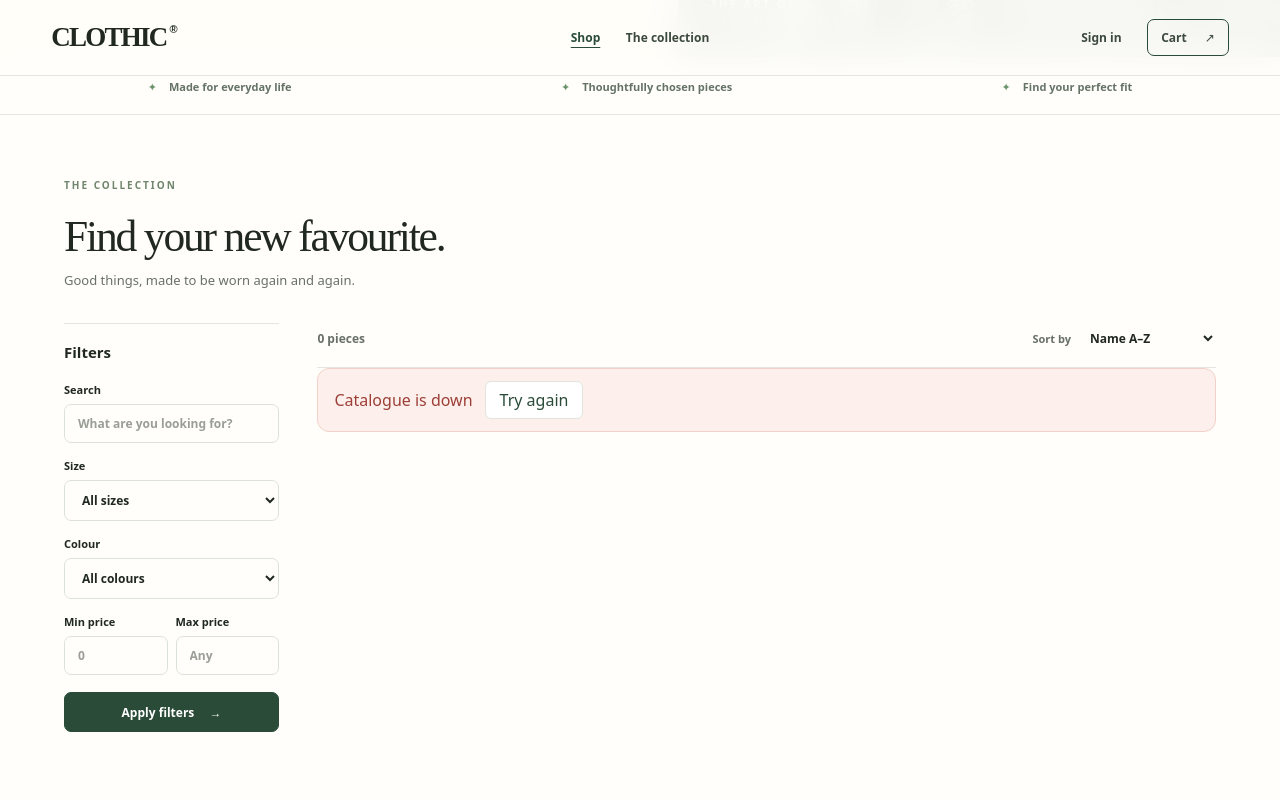
it: StorefrontPage › shows an error with retry when the catalogue fails to load
(page scrolled)
Expected: the message shows "Catalogue is down", left=334, top=389, right=473, bottom=411
Click the button "Try again" at (534, 400), box left=485, top=381, right=583, bottom=419
(page scrolled)
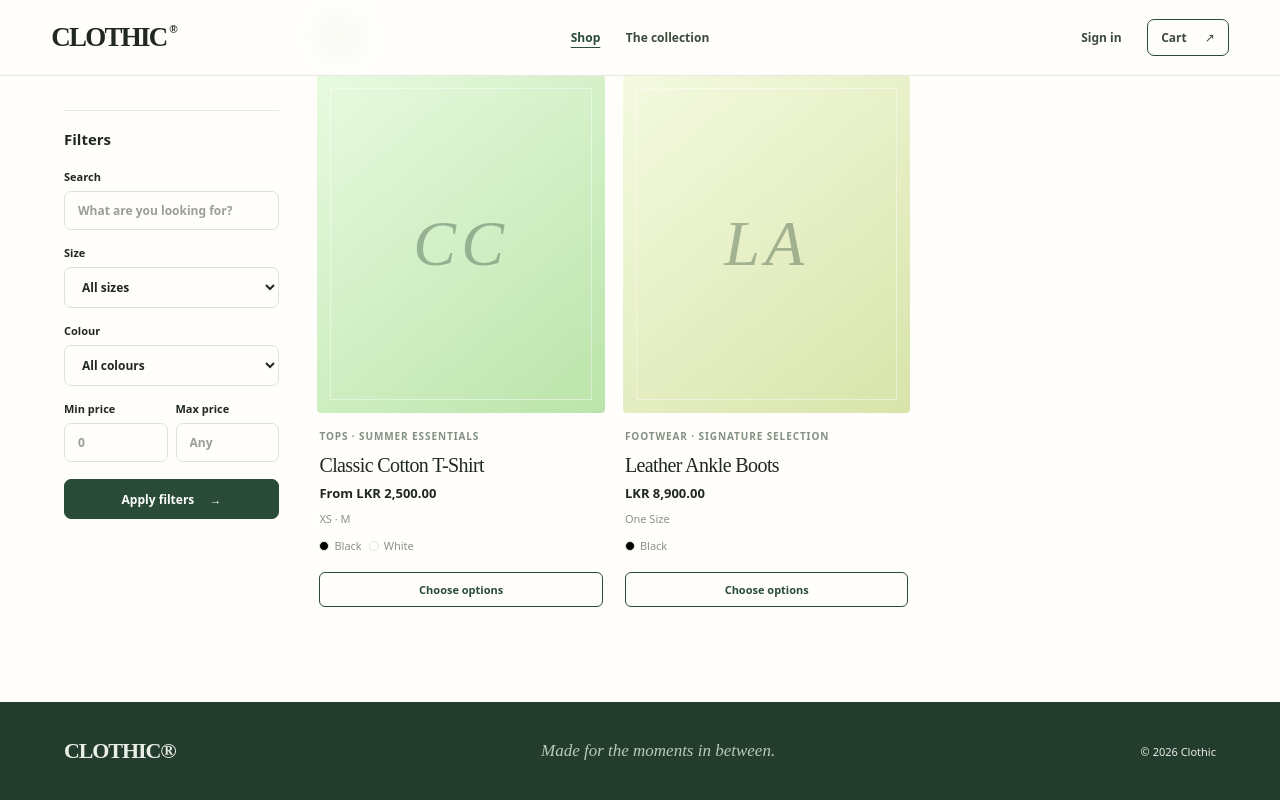
Expected: the heading "Classic Cotton T-Shirt" is shown, left=319, top=454, right=484, bottom=476
